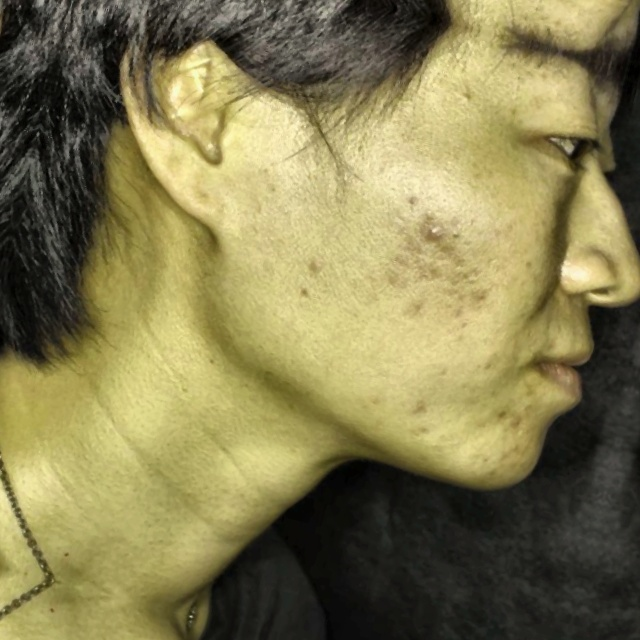comedone: (486, 398, 531, 439), (413, 210, 455, 252)
